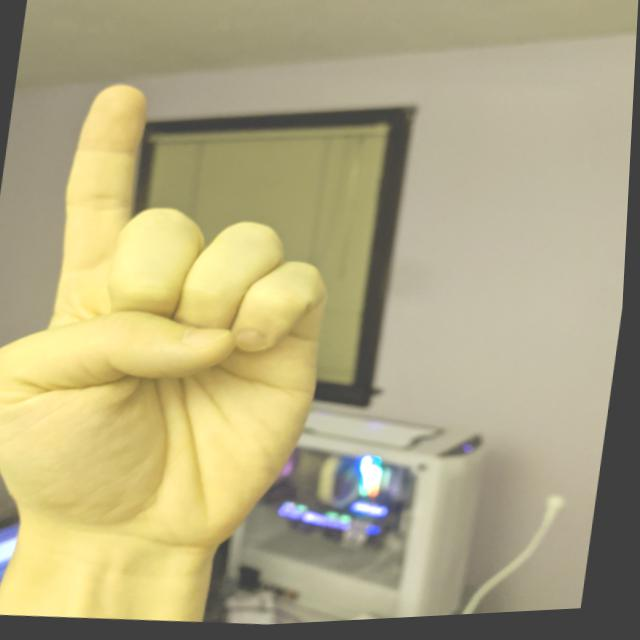D: (0, 59, 370, 578)
